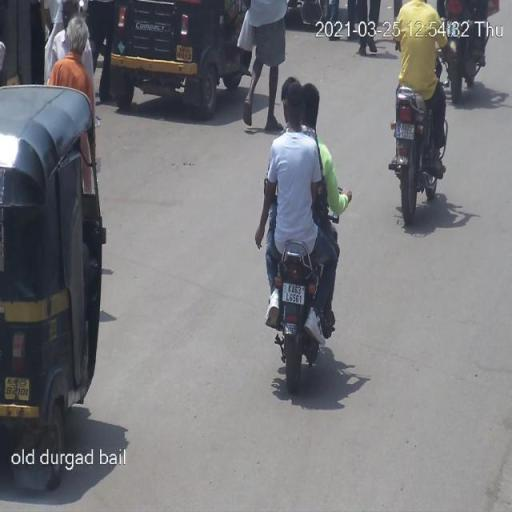tripple riding: (252, 76, 354, 238)
